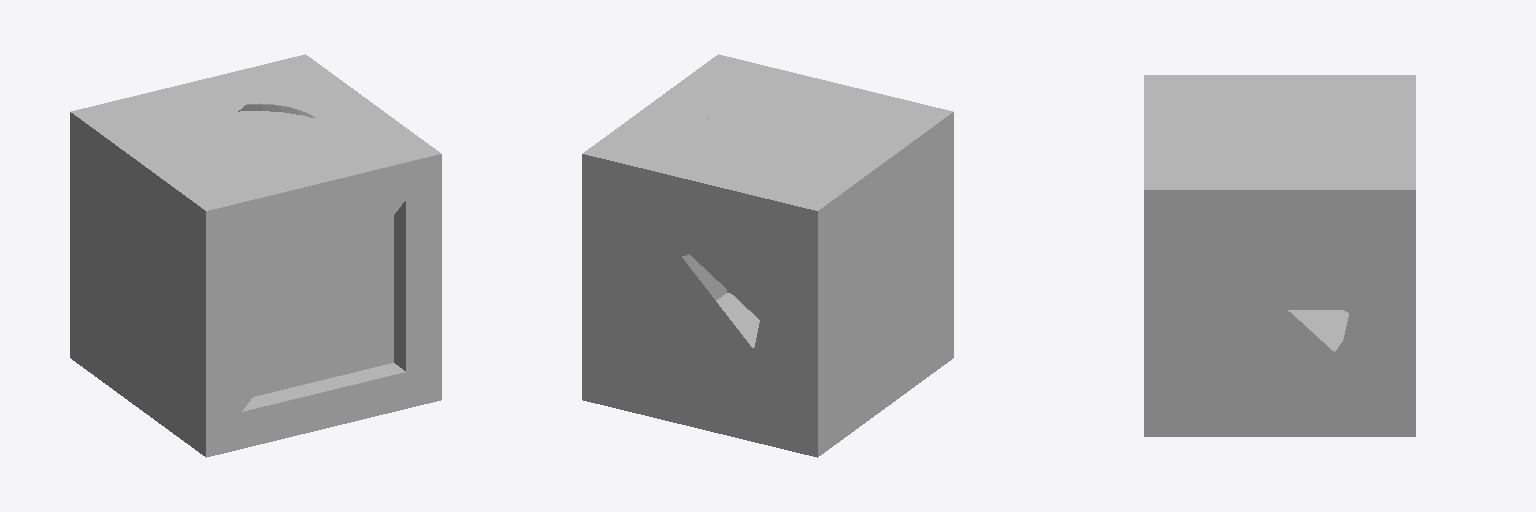
The model's file is lvl_box.obj.
The picture shows the model from 3 angles: view 1: azimuth 30°, elevation 25°; view 2: azimuth 150°, elevation 25°; view 3: azimuth 270°, elevation 25°; orthographic projection.
Parts seen in each view (by area): view 1: Cube; view 2: Cube; view 3: Cube.
Part boxes in pixels (x1,y1,x2,y2): Cube: (70, 54, 441, 457); Cube: (582, 54, 953, 457); Cube: (1144, 75, 1415, 436).
Size of the model in its own units: 40.31 by 40.31 by 40.31.